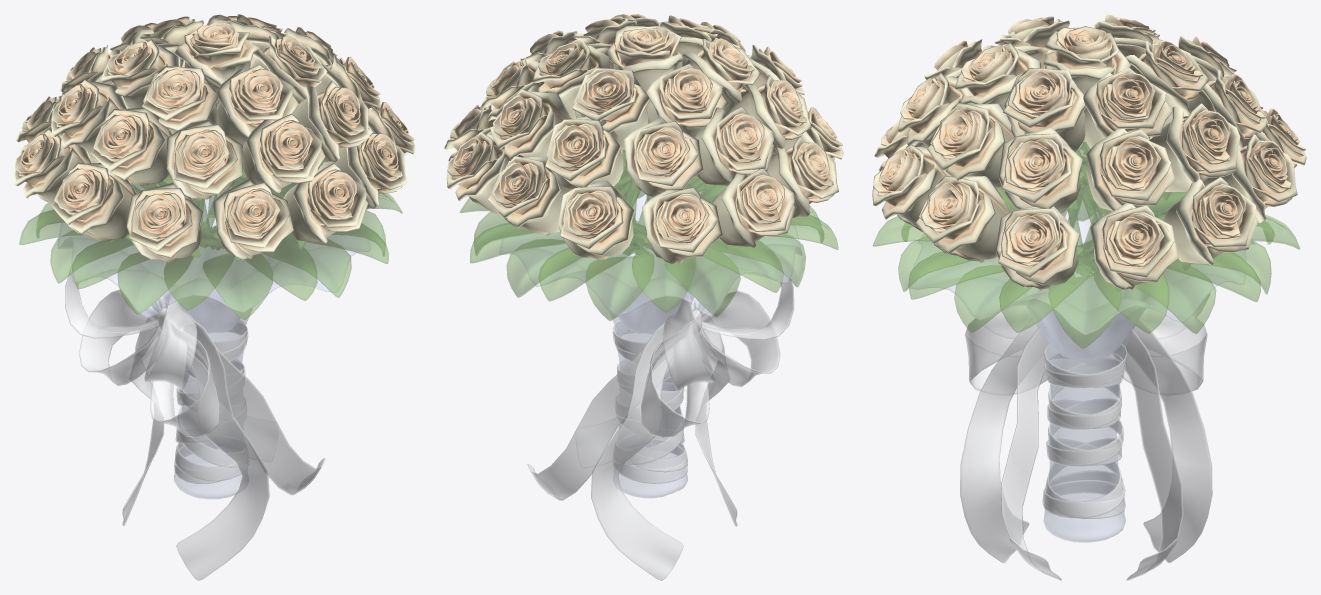
3 renders of one model, left to right at view 1: azimuth 30°, elevation 25°; view 2: azimuth 150°, elevation 25°; view 3: azimuth 270°, elevation 25°, orthographic. The views are drawn at different scales.
Parts seen in each view (by area): view 1: BouquetFlowers; view 2: BouquetFlowers; view 3: BouquetFlowers.
Boxes of the visible parts, x1=… form: BouquetFlowers: x1=14, y1=14, x2=415, y2=580; BouquetFlowers: x1=444, y1=14, x2=843, y2=580; BouquetFlowers: x1=872, y1=14, x2=1306, y2=580.
Bounding box in the file's own units: 28.38 × 39.79 × 28.09.
Materials: 4 (1 with a texture image).
